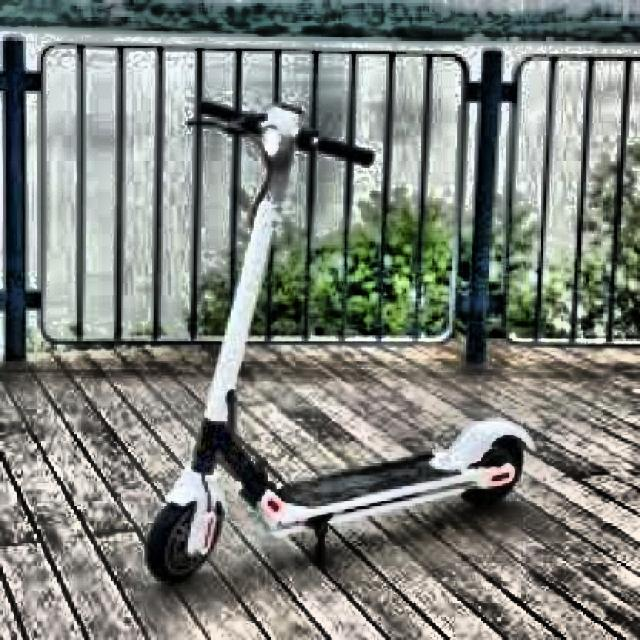bike: (144, 95, 527, 587)
